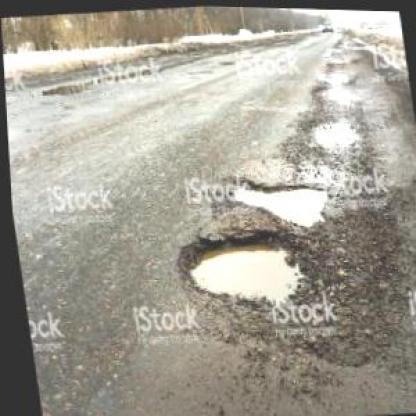pothole: (164, 215, 326, 322), (220, 165, 332, 230), (306, 112, 358, 151), (309, 78, 352, 101), (315, 64, 349, 82)
